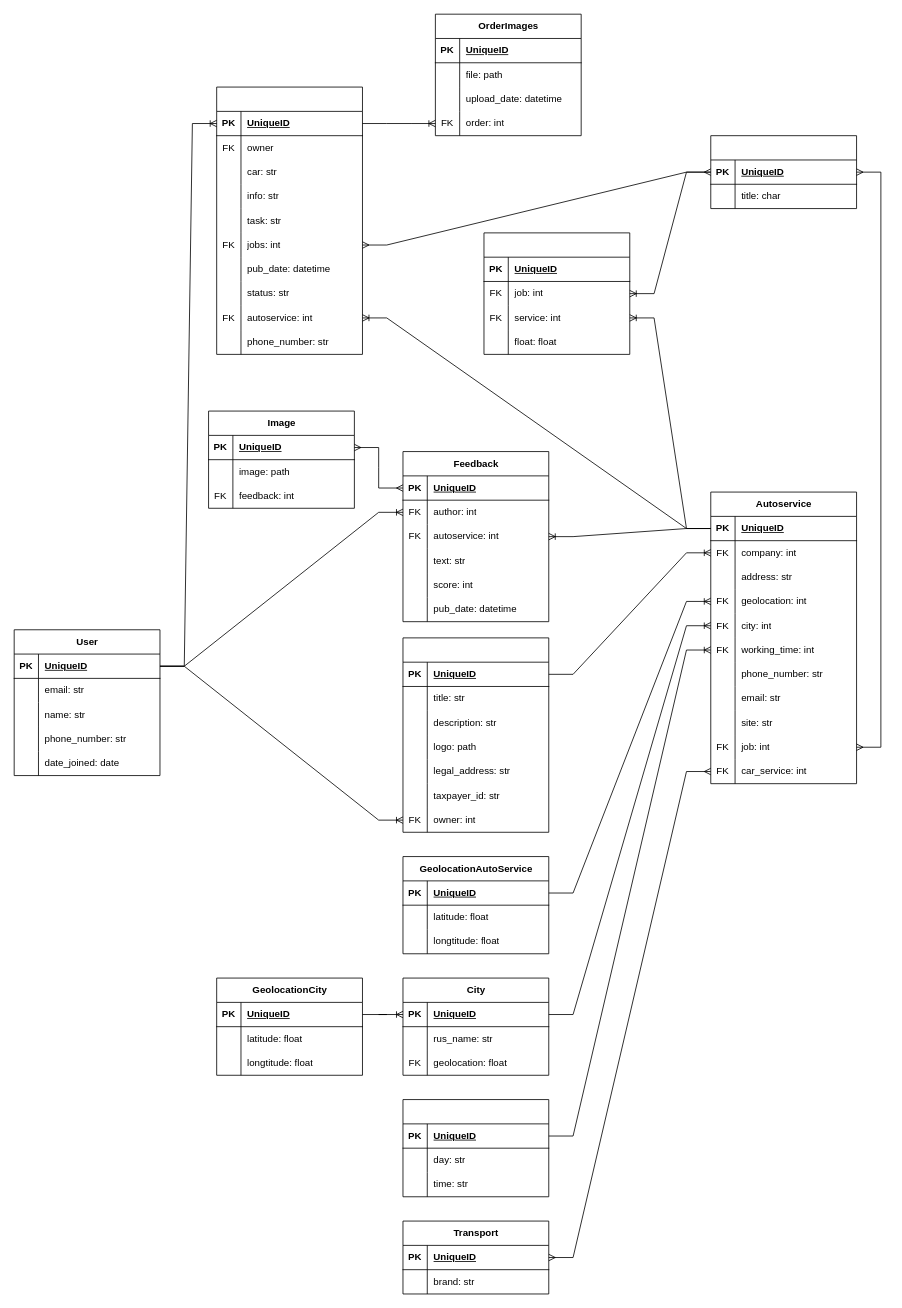
This 902x1308 diagram has some shape labels left out. Here are the shapes that lost their labels. From the top down, the box of each, then its label:
(710, 135, 857, 209): Jobs
(216, 86, 362, 354): Order
(483, 232, 630, 354): AutoserviceJob
(402, 637, 549, 832): Company
(402, 1099, 549, 1197): WorkingTime
